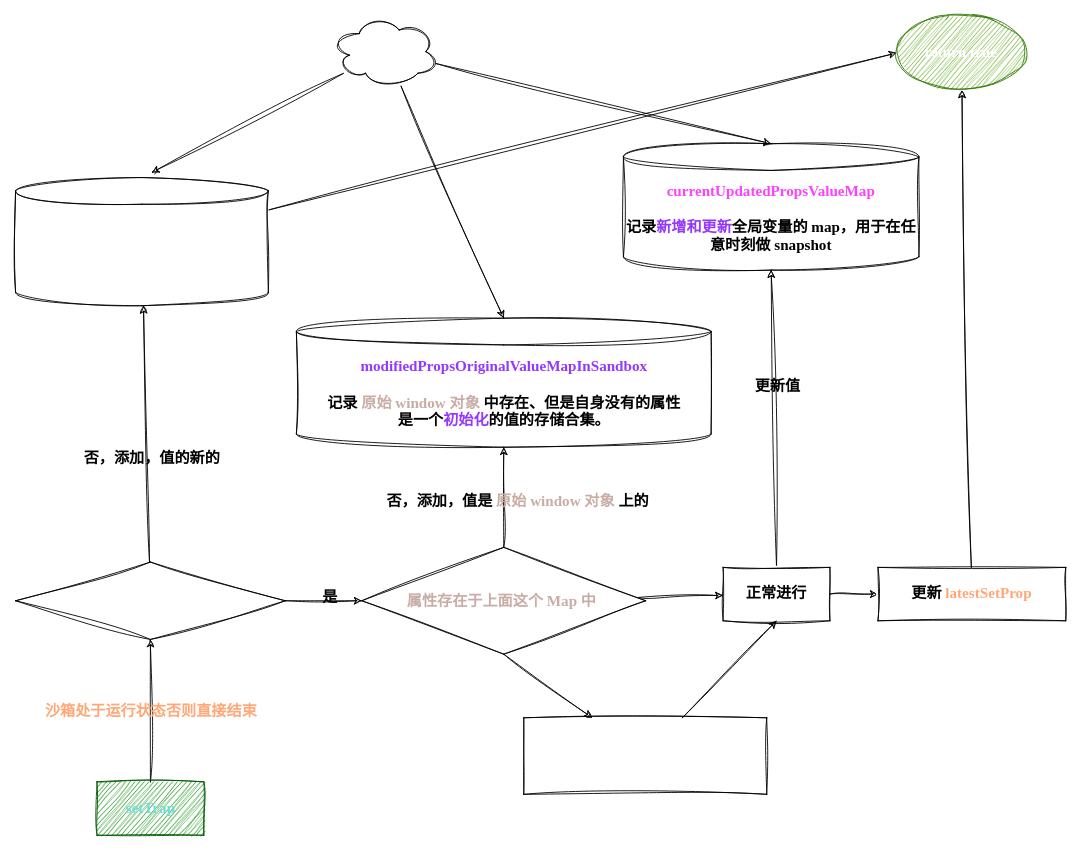
Image size: 1081x851. Some labels were removed from this diagram. The centre of each missing label's shape, as x and y in pixels:
"addedPropsMapInSandbox 记录沙箱运行期间 新增 的全局变量" goes at point (141, 241).
"Map类型" goes at point (385, 51).
"set 函数逻辑：更新原始window 对象上该属性为新的值" goes at point (645, 755).
"属性在原始 window 对象中" goes at point (150, 600).
